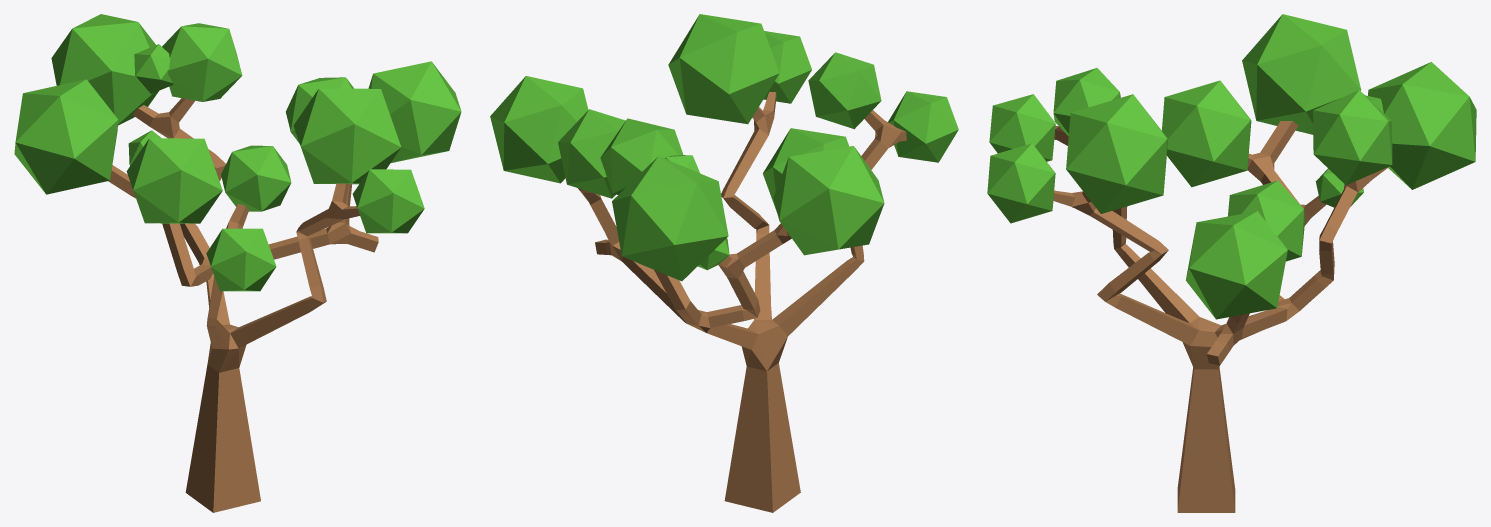
The model's file is ÁRVORE #1.fbx.
3 renders of one model, left to right at view 1: azimuth 30°, elevation 25°; view 2: azimuth 150°, elevation 25°; view 3: azimuth 270°, elevation 25°, orthographic. The views are drawn at different scales.
Visible parts, largest first — view 1: Tronco, Folha.006, Folha.012, Folha.003, Folha.007, Folha.001, Folha.004, Folha.011, Folha.009, Folha.010, Folha.008, Folha.002; view 2: Tronco, Folha.003, Folha.006, Folha.012, Folha.001, Folha.009, Folha.002, Folha.010, Folha.004, Folha.011, Folha.007; view 3: Tronco, Folha.006, Folha.012, Folha.003, Folha.001, Folha.007, Folha.004, Folha.011, Folha.010, Folha.002, Folha.009, Folha.005.
Boxes of the visible parts, left/top/right/bottom form: Tronco: left=108, top=98, right=378, bottom=512; Folha.006: left=14, top=79, right=118, bottom=194; Folha.012: left=293, top=88, right=401, bottom=184; Folha.003: left=51, top=14, right=158, bottom=125; Folha.007: left=126, top=138, right=222, bottom=223; Folha.001: left=368, top=61, right=461, bottom=162; Folha.004: left=162, top=23, right=242, bottom=101; Folha.011: left=352, top=169, right=424, bottom=233; Folha.009: left=221, top=145, right=291, bottom=211; Folha.010: left=206, top=228, right=276, bottom=291; Folha.008: left=134, top=44, right=173, bottom=93; Folha.002: left=286, top=77, right=353, bottom=143; Tronco: left=578, top=92, right=906, bottom=512; Folha.003: left=612, top=156, right=728, bottom=281; Folha.006: left=773, top=146, right=884, bottom=255; Folha.012: left=668, top=14, right=779, bottom=124; Folha.001: left=490, top=76, right=588, bottom=183; Folha.009: left=808, top=52, right=881, bottom=129; Folha.002: left=558, top=109, right=625, bottom=198; Folha.010: left=888, top=91, right=958, bottom=162; Folha.004: left=600, top=118, right=683, bottom=194; Folha.011: left=763, top=31, right=811, bottom=103; Folha.007: left=763, top=128, right=849, bottom=211; Tronco: left=1053, top=121, right=1388, bottom=512; Folha.006: left=1242, top=14, right=1361, bottom=134; Folha.012: left=1066, top=94, right=1167, bottom=213; Folha.003: left=1368, top=62, right=1476, bottom=189; Folha.001: left=1186, top=211, right=1287, bottom=319; Folha.007: left=1162, top=80, right=1251, bottom=187; Folha.004: left=1313, top=90, right=1392, bottom=185; Folha.011: left=987, top=143, right=1055, bottom=223; Folha.010: left=989, top=94, right=1055, bottom=161; Folha.002: left=1227, top=180, right=1305, bottom=261; Folha.009: left=1053, top=68, right=1120, bottom=135; Folha.005: left=1315, top=168, right=1363, bottom=207.
Size of the model in its own units: 327 by 316 by 320.
